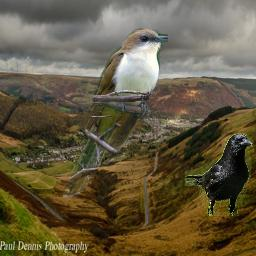Crow: (185, 133, 253, 216)
Cuckoo: (61, 26, 168, 198)
